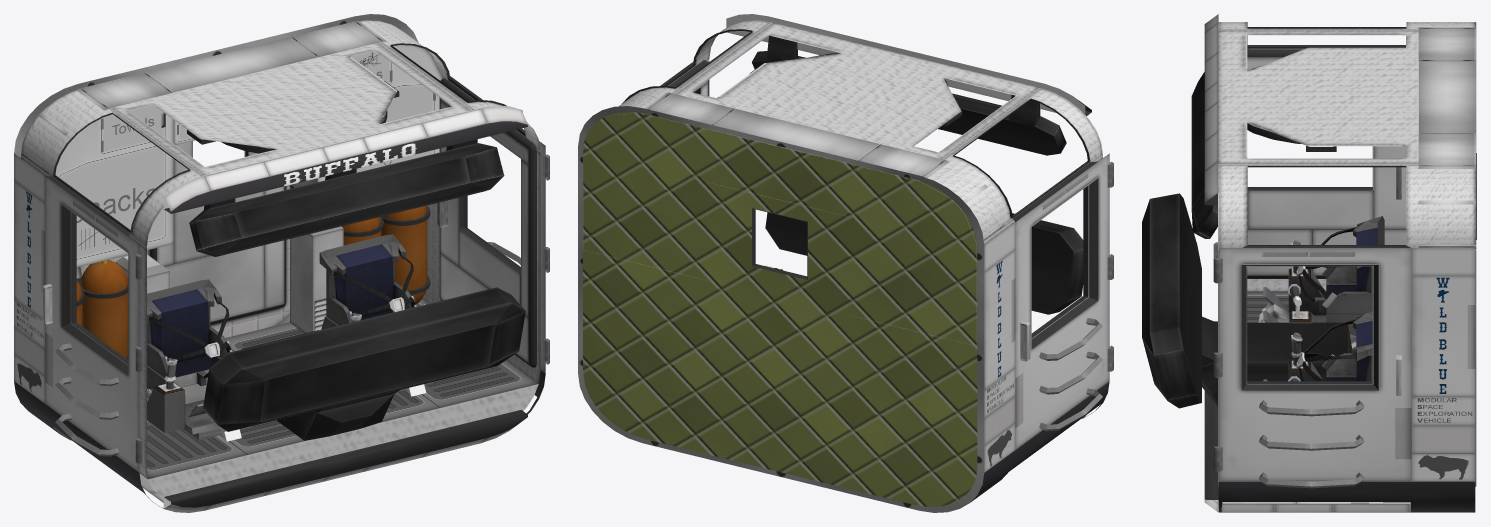
The model's file is BuffaloCabSpace.FBX.
The picture shows the model from 3 angles, left to right: view 1: azimuth 30°, elevation 25°; view 2: azimuth 150°, elevation 25°; view 3: azimuth 270°, elevation 25°; orthographic projection. The views are drawn at different scales.
Visible parts, largest first — view 1: InteriorLiner, Dashboard, CabSide001, Floor, TopPanel, Locker001, CabFrontBand001, Door002, CabFrontBand002 (×2), BackDoor, Seat002, Seat003 (+16 smaller); view 2: Firewall, InteriorLiner, CabSide001, Dashboard, BackPanel001, BackPanel002, TopPanel, TopLocker, CabFirewall, Locker001, Locker002, Door001 (+3 smaller); view 3: CabSide002, InteriorLiner, SidePanel001, Dashboard, Door001, Center Console, TopLocker, Seat002, Locker002, CabFrontBand001, Seat003, TopPanel (+11 smaller).
Part boxes in pixels (box(x1,y1,x2,y2)): InteriorLiner: box(21, 20, 540, 479); Dashboard: box(203, 287, 525, 431); CabSide001: box(14, 153, 164, 508); Floor: box(140, 299, 538, 502); TopPanel: box(189, 143, 504, 256); Locker001: box(21, 72, 173, 267); CabFrontBand001: box(164, 106, 527, 213); Door002: box(439, 78, 536, 367); CabFrontBand002 (×2): box(164, 410, 527, 512); BackDoor: box(150, 141, 286, 324); Seat002: box(147, 279, 232, 434); Seat003: box(319, 234, 416, 329); Firewall: box(583, 112, 977, 506); InteriorLiner: box(619, 20, 1102, 338); CabSide001: box(970, 153, 1109, 502); Dashboard: box(765, 212, 1083, 314); BackPanel001: box(781, 142, 984, 512); BackPanel002: box(578, 106, 780, 476); TopPanel: box(752, 51, 1066, 155); TopLocker: box(708, 109, 879, 217); CabFirewall: box(726, 14, 1085, 416); Locker001: box(852, 144, 1004, 346); Locker002: box(583, 92, 735, 280); Door001: box(1007, 159, 1091, 338); CabSide002: box(1218, 245, 1475, 512); InteriorLiner: box(1218, 22, 1475, 486); SidePanel001: box(1411, 248, 1475, 481); Dashboard: box(1142, 193, 1201, 408); Door001: box(1247, 49, 1406, 278); Center Console: box(1202, 316, 1352, 406); TopLocker: box(1418, 61, 1476, 132); Seat002: box(1296, 216, 1384, 347); Locker002: box(1418, 133, 1476, 349); CabFrontBand001: box(1204, 14, 1218, 205); Seat003: box(1296, 311, 1372, 381); TopPanel: box(1191, 72, 1217, 238).
Bounding box in the file's own units: 1.76 × 1.25 × 1.11.
